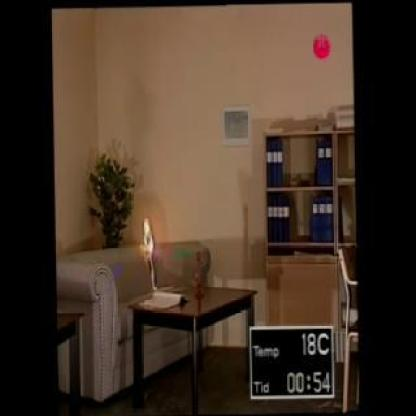Fire: (134, 197, 162, 289)
